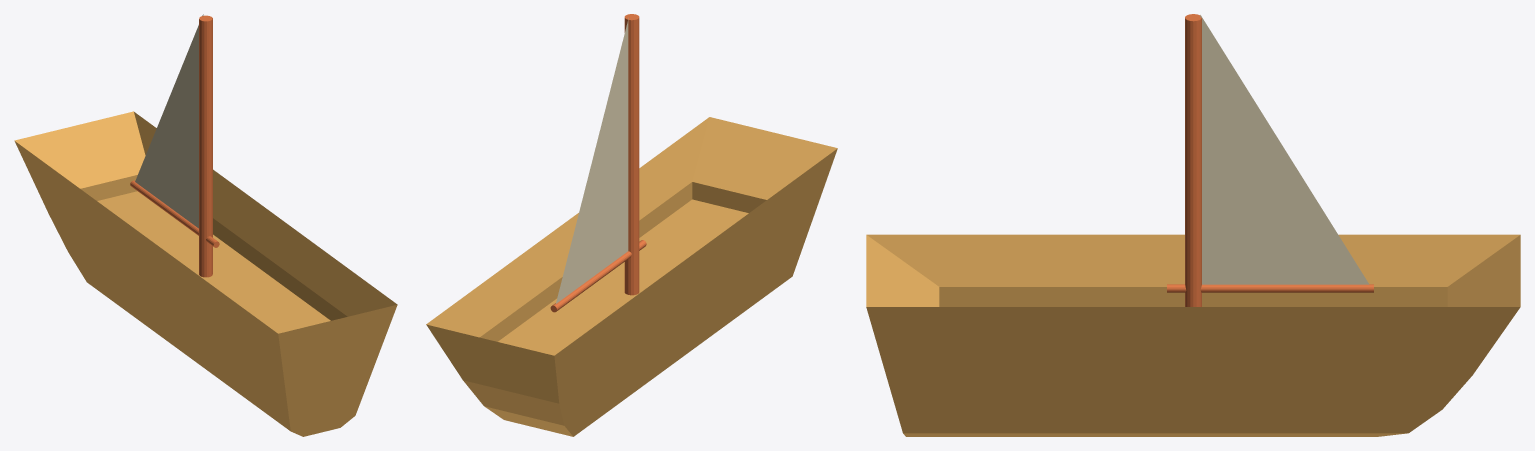
The model's file is Ship.gltf.
3 views of the same model, side by side, from view 1: azimuth 30°, elevation 25°; view 2: azimuth 150°, elevation 25°; view 3: azimuth 270°, elevation 25° (orthographic). The views are drawn at different scales.
Visible parts, largest first — view 1: Cube, 平面, 円柱; view 2: Cube, 平面, 円柱; view 3: Cube, 平面, 円柱.
Part boxes in pixels (x1,y1,x2,y2): Cube: [14, 111, 397, 436]; 平面: [135, 14, 203, 228]; 円柱: [130, 15, 219, 277]; Cube: [426, 117, 837, 436]; 平面: [556, 17, 628, 303]; 円柱: [550, 14, 646, 312]; Cube: [866, 234, 1520, 436]; 平面: [1200, 15, 1369, 284]; 円柱: [1167, 14, 1373, 306].
Size of the model in its own units: 2 by 5.3 by 7.65.
